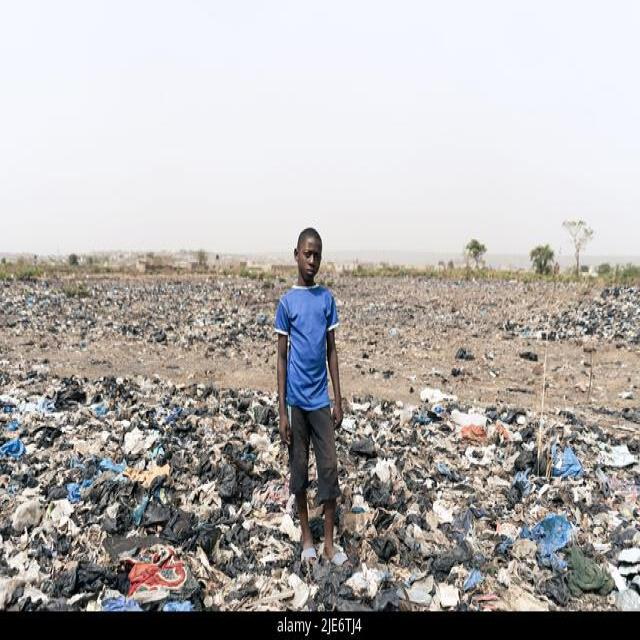trash: (32, 392, 246, 590), (374, 424, 586, 586), (348, 275, 640, 374), (29, 278, 265, 346)
